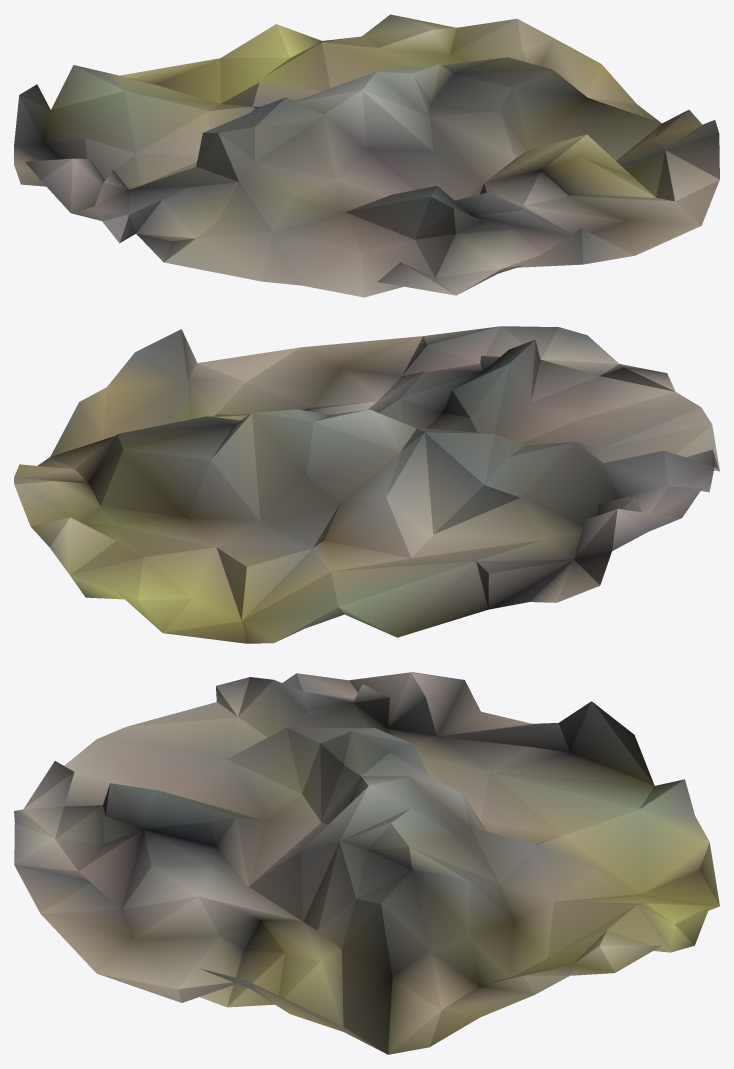
File: rock_lo.glb
3 renders of one model, top to bottom at view 1: azimuth 30°, elevation 25°; view 2: azimuth 150°, elevation 25°; view 3: azimuth 270°, elevation 25°, orthographic.
Parts seen in each view (by area): view 1: rock; view 2: rock; view 3: rock.
Boxes of the visible parts, x1,y1,x2,y2 form: rock: [14, 14, 719, 297]; rock: [14, 326, 719, 643]; rock: [14, 672, 719, 1054].
Bounding box in the file's own units: 5.05 × 1.01 × 5.02.
